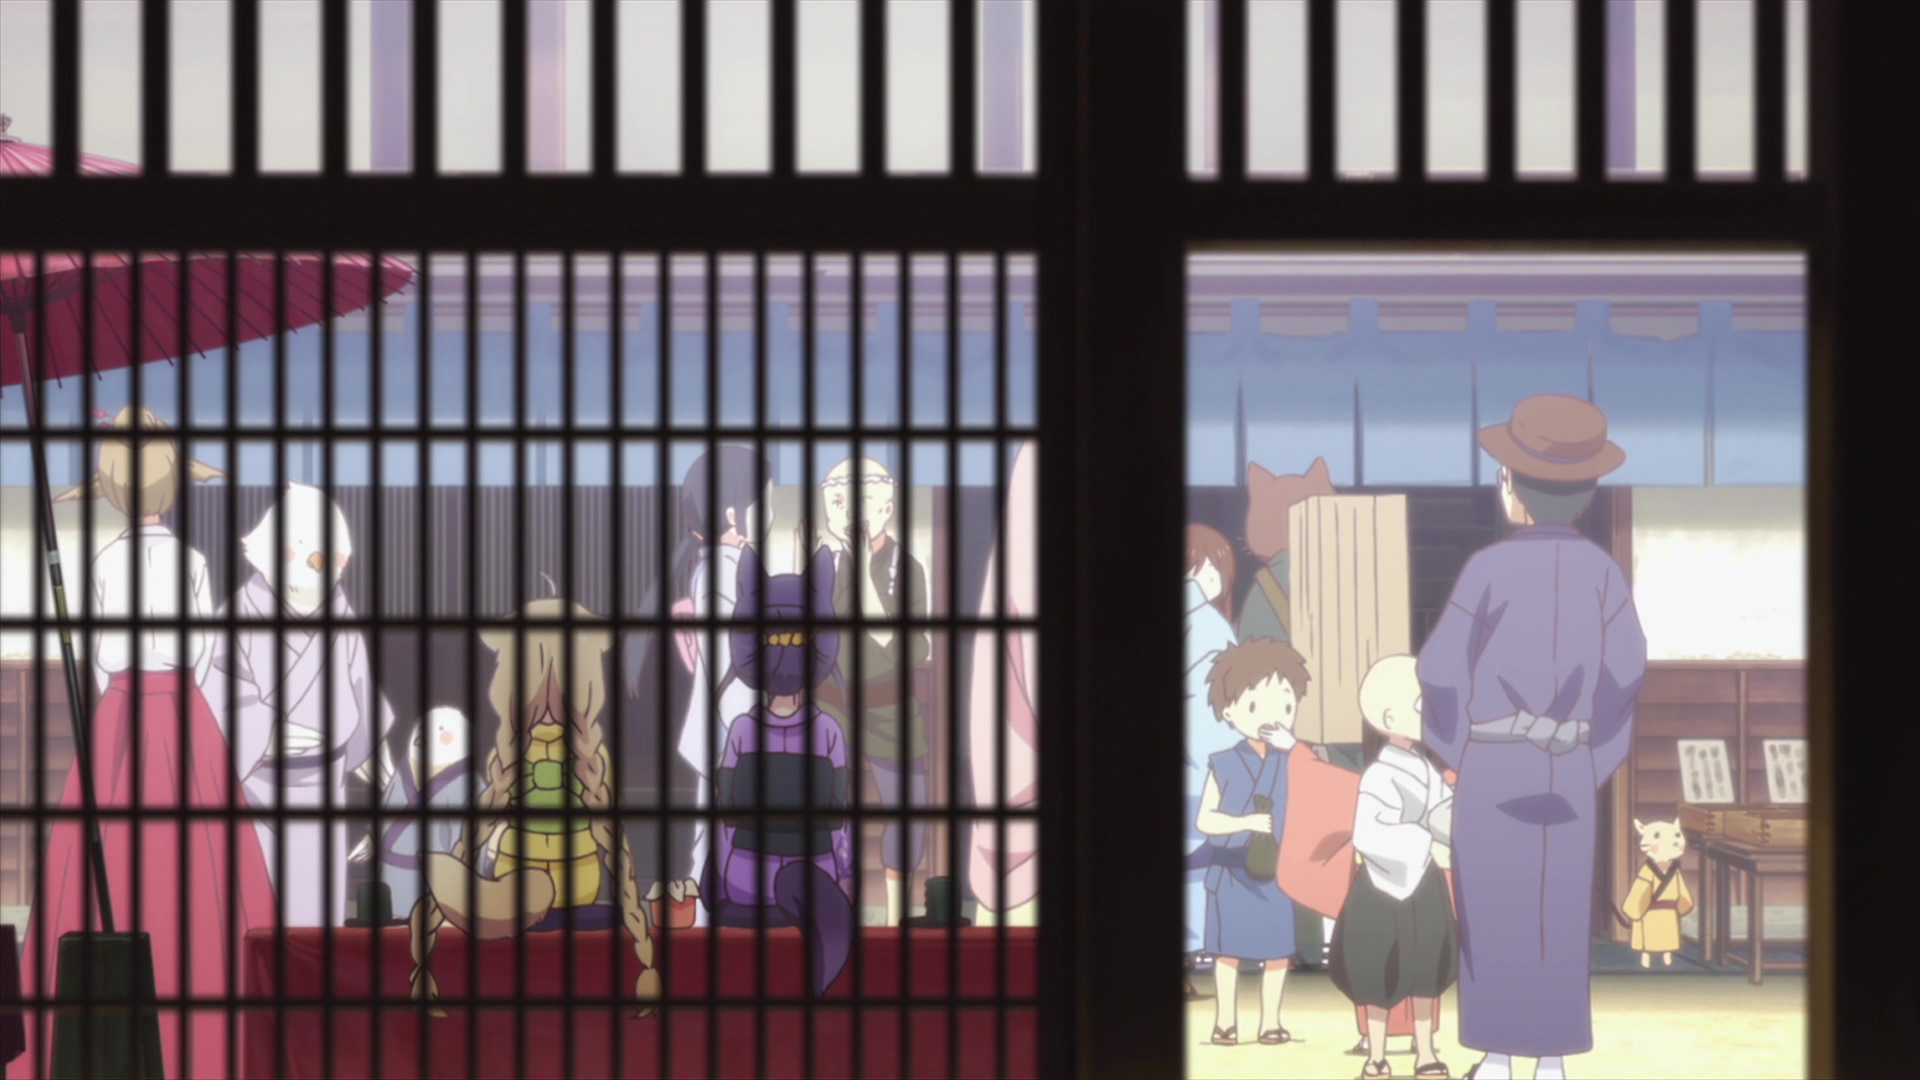其他: (1, 405, 280, 1080), (1418, 397, 1647, 1080), (203, 483, 393, 928), (625, 446, 775, 927), (1329, 657, 1453, 1080), (1238, 458, 1406, 765), (822, 458, 928, 938), (1197, 644, 1312, 1044), (345, 705, 465, 922), (1625, 816, 1692, 972)
柚: (410, 571, 659, 1015)
皋: (705, 545, 855, 993)
